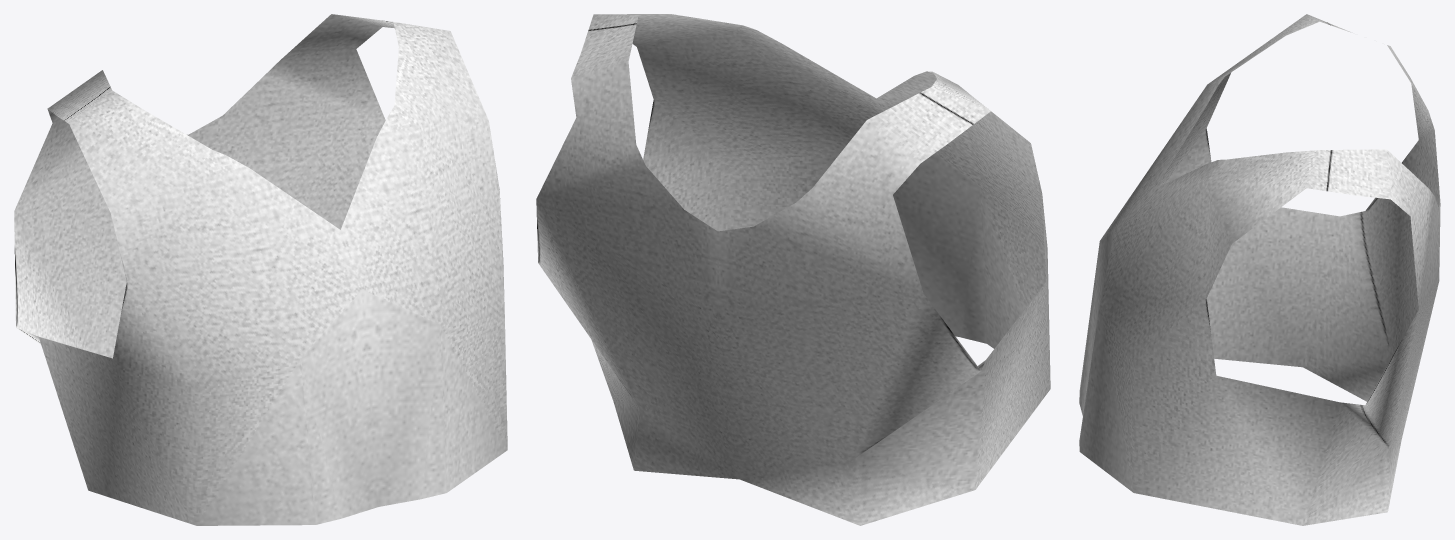
Rendered from CropTop.glb.
The picture shows the model from 3 angles, left to right: view 1: azimuth 30°, elevation 25°; view 2: azimuth 150°, elevation 25°; view 3: azimuth 270°, elevation 25°; orthographic projection. The views are drawn at different scales.
Parts seen in each view (by area): view 1: CropTop; view 2: CropTop; view 3: CropTop.
Part boxes in pixels (bbox=[...]): CropTop: bbox=[14, 14, 507, 525]; CropTop: bbox=[536, 14, 1050, 525]; CropTop: bbox=[1079, 14, 1440, 525].
Size of the model in its own units: 4.73 by 4.28 by 3.72.
Materials: 1 (1 with a texture image).
